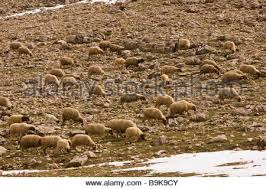sheep: (20, 133, 43, 155), (61, 106, 84, 128), (10, 123, 36, 140), (141, 107, 167, 124), (85, 122, 113, 137), (73, 133, 97, 150), (172, 100, 196, 117), (41, 135, 64, 152), (222, 70, 247, 85), (240, 62, 262, 78), (160, 63, 183, 78), (126, 125, 147, 141), (199, 64, 220, 77), (7, 114, 30, 125), (89, 84, 107, 98), (155, 94, 174, 107), (43, 74, 60, 88), (59, 56, 77, 69), (88, 64, 105, 77), (223, 39, 237, 53), (89, 45, 103, 58), (63, 77, 79, 88), (17, 46, 33, 57), (179, 38, 191, 51), (9, 41, 22, 49)
